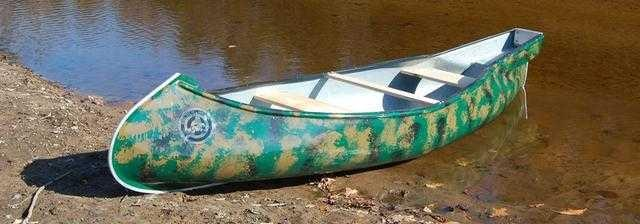kayak: (110, 26, 545, 195)
